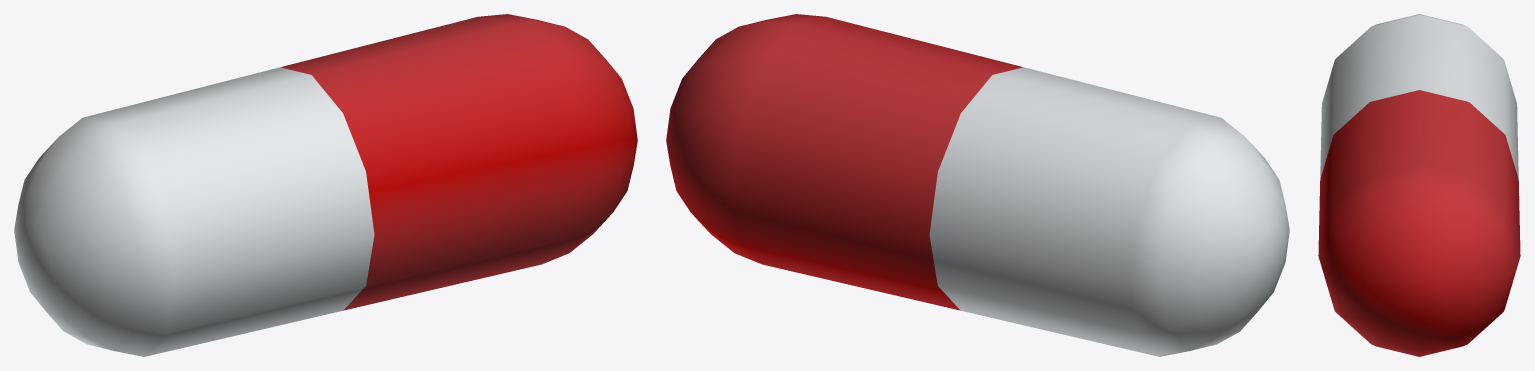
Rendered from Item_Pill.fbx.
The picture shows the model from 3 angles, left to right: view 1: azimuth 30°, elevation 25°; view 2: azimuth 150°, elevation 25°; view 3: azimuth 270°, elevation 25°; orthographic projection. The views are drawn at different scales.
Parts seen in each view (by area): view 1: Item_Pill; view 2: Item_Pill; view 3: Item_Pill.
Part boxes in pixels (x1,y1,x2,y2): Item_Pill: (14,14,637,356); Item_Pill: (666,14,1289,356); Item_Pill: (1318,14,1520,356).
Size of the model in its own units: 40.56 by 15.25 by 15.25.
